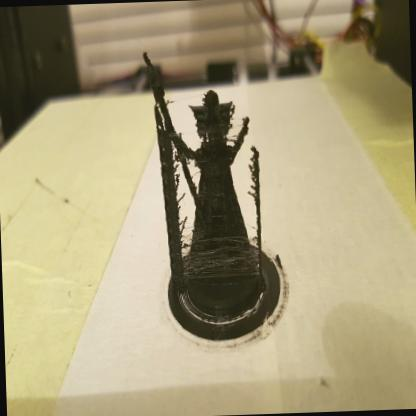fail: (248, 145, 258, 244), (175, 164, 186, 212), (228, 106, 241, 134), (180, 212, 191, 241)
